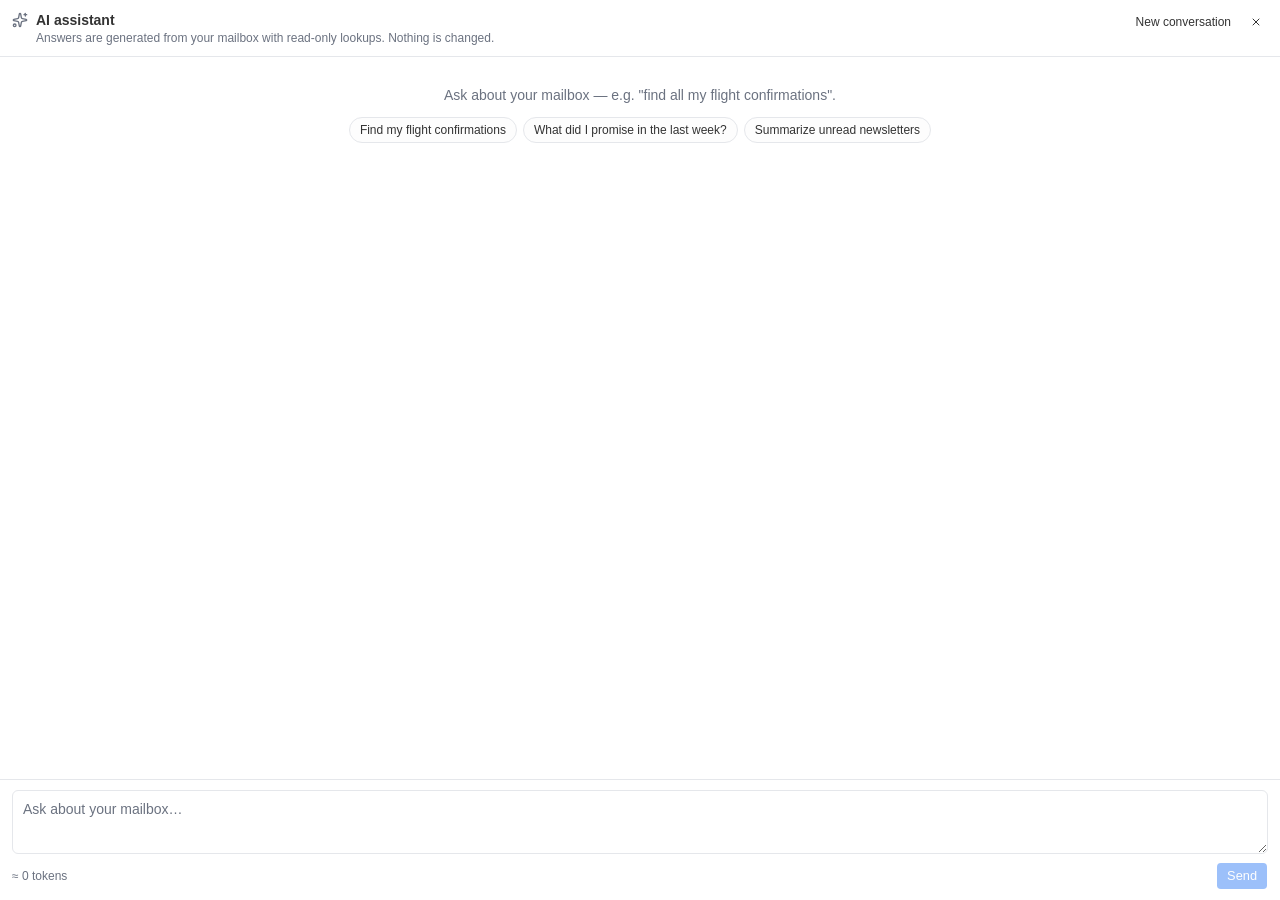
Test: AssistantPanel conversation (task 7.2) › shows the tool-activity line when the turn used tools
In the text box with test id "assistant-input": (640, 822) [12, 790, 1268, 854], type "unread from this week"
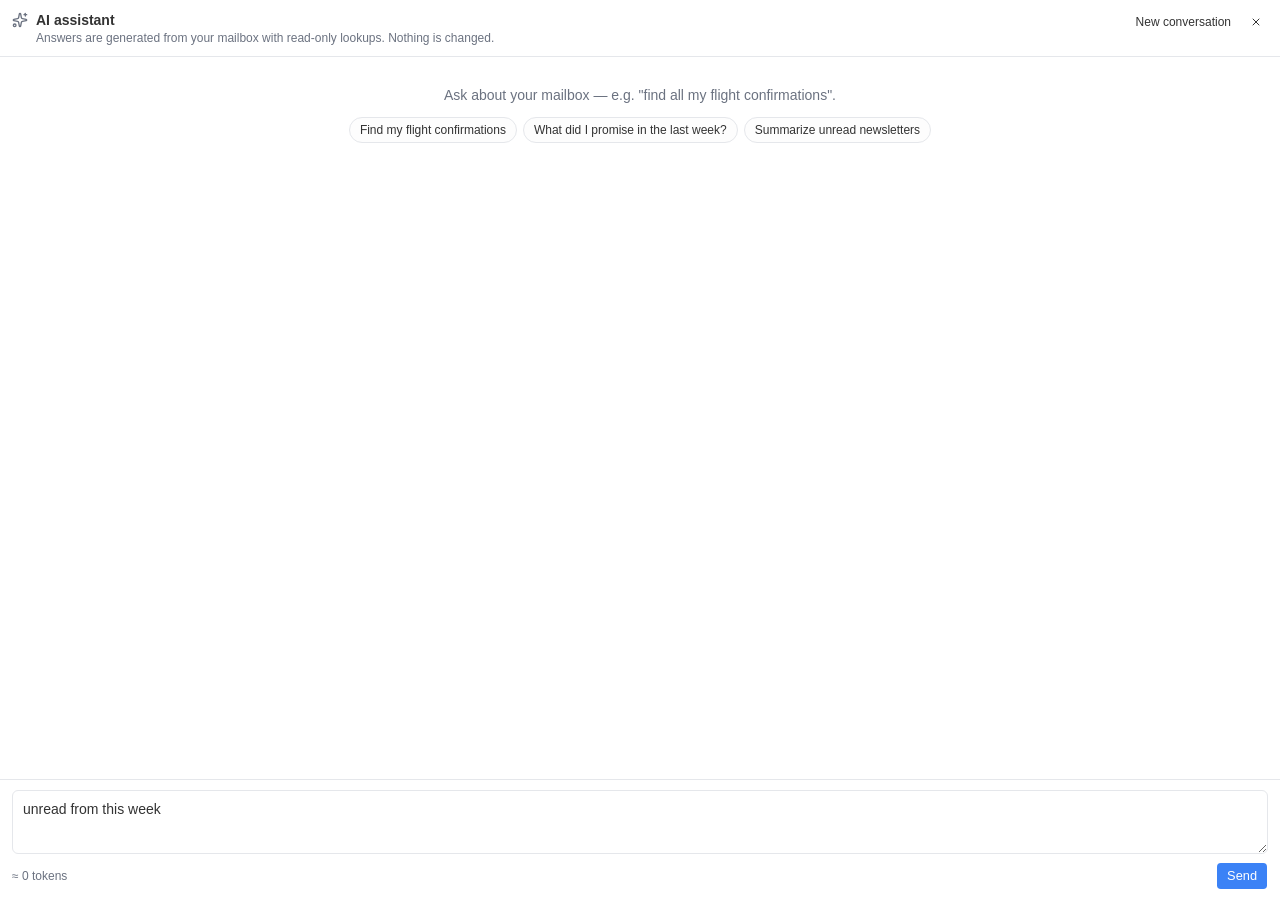
Click the button "Send": (1242, 876) [1216, 862, 1268, 890]
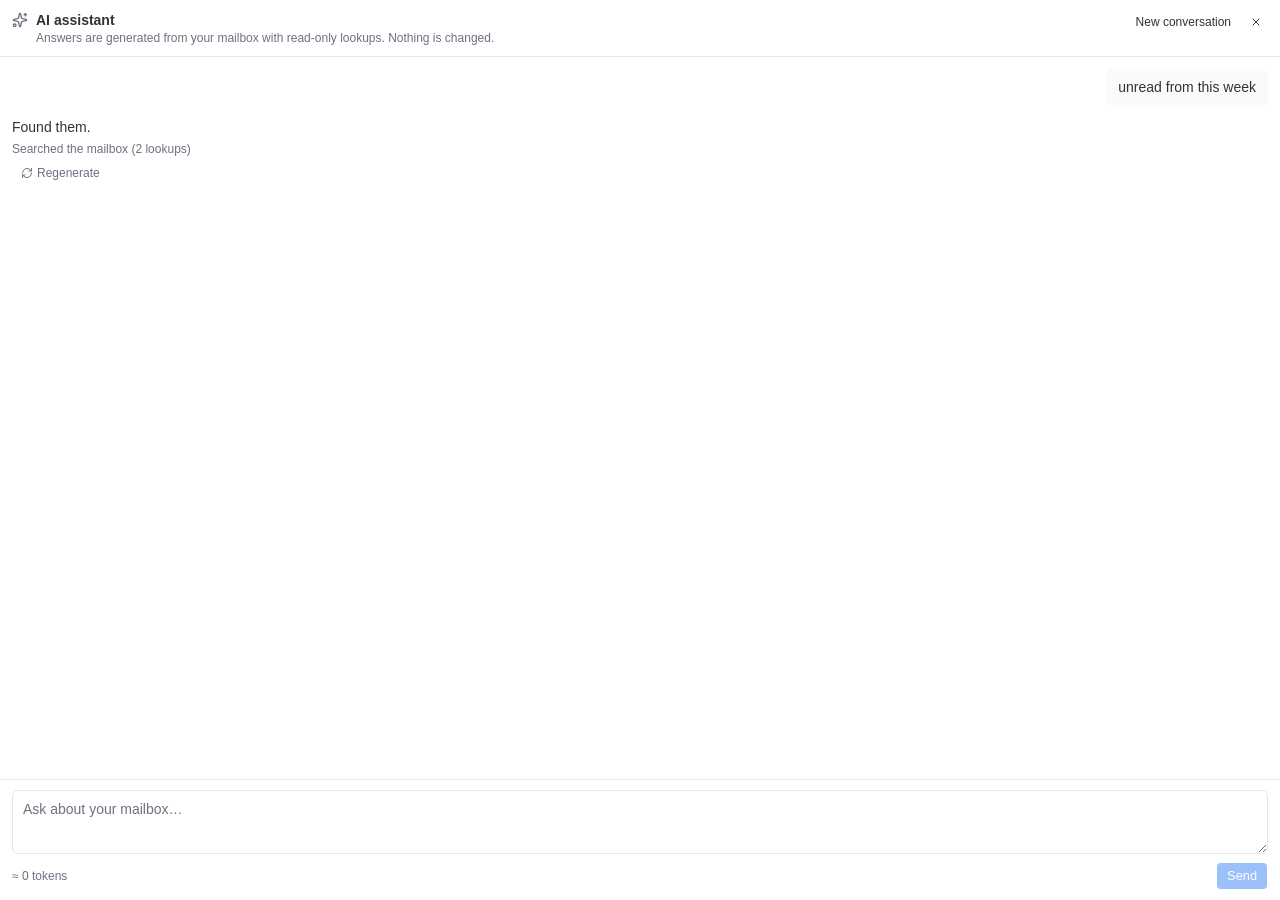
Expected: the text with test id "assistant-tool-activity" shows "2 lookups", [12, 142, 191, 156]
